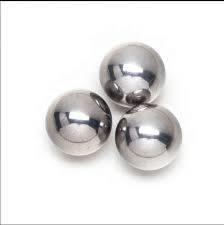steelball: (114, 101, 188, 184), (43, 84, 113, 159), (96, 40, 175, 101)
